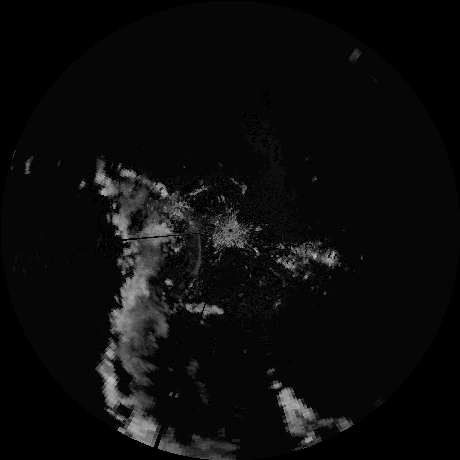frontgust: (189, 222, 206, 277)
